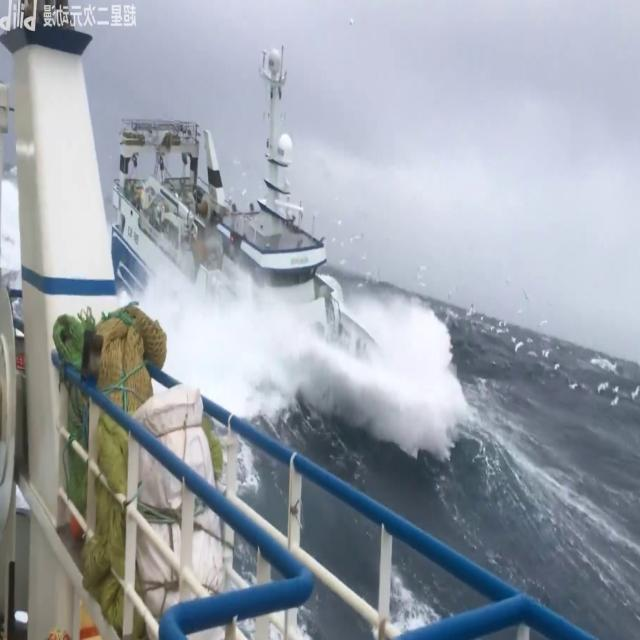houseboat: (108, 47, 415, 430)
